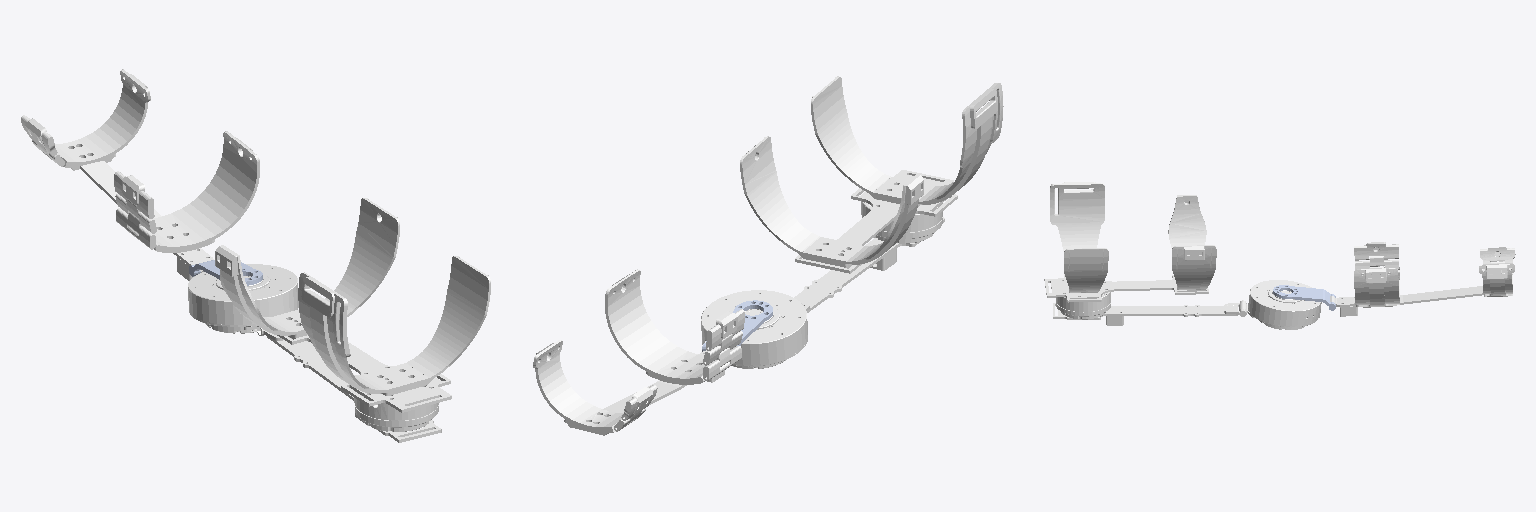
robot.urdf — knee_exo_hinge:
<?xml version='1.0' encoding='utf-8'?>
<robot name="knee_exo_hinge">
  <!-- Generated from knee_exo_hinge_r.urdf by tools/mirror_knee_urdf.py: CAD local X reflection. Meshes, COM, inertia, transforms and joint axes mirrored; masses/limits preserved. -->
  <link name="base_link">
    <inertial>
      <origin xyz="-0.0090654 -0.23188 0.015986" rpy="0 0 0" />
      <mass value="0.28656" />
      <inertia ixx="0.0004204" ixy="-6.2955e-06" ixz="1.0696e-05" iyy="0.00040802" iyz="2.0927e-06" izz="0.00057961" />
    </inertial>
    <visual>
      <origin xyz="0 0 0" rpy="0 0 0" />
      <geometry>
        <mesh filename="package://knee_exo_hinge/meshes/base_link_L.STL" />
      </geometry>
      <material name="">
        <color rgba="1 1 1 1" />
      </material>
    </visual>
    <collision>
      <origin xyz="0 0 0" rpy="0 0 0" />
      <geometry>
        <mesh filename="package://knee_exo_hinge/meshes/base_link_L.STL" />
      </geometry>
    </collision>
  </link>
  <link name="motor_housing_link">
    <inertial>
      <origin xyz="-0.015785 -0.053453 -0.0042739" rpy="0 0 0" />
      <mass value="0.06744" />
      <inertia ixx="3.5451e-05" ixy="3.7084e-07" ixz="-4.5148e-07" iyy="3.8313e-05" iyz="-8.0124e-06" izz="6.6839e-05" />
    </inertial>
    <visual>
      <origin xyz="0 0 0" rpy="0 0 0" />
      <geometry>
        <mesh filename="package://knee_exo_hinge/meshes/motor_housing_link_L.STL" />
      </geometry>
      <material name="">
        <color rgba="1 1 1 1" />
      </material>
    </visual>
    <collision>
      <origin xyz="0 0 0" rpy="0 0 0" />
      <geometry>
        <mesh filename="package://knee_exo_hinge/meshes/motor_housing_link_L.STL" />
      </geometry>
    </collision>
  </link>
  <joint name="upper_hinge_joint" type="revolute">
    <origin xyz="-0.01255 -0.058247 -0.022356" rpy="-0.14944 0.0092835 -3.08" />
    <parent link="base_link" />
    <child link="motor_housing_link" />
    <axis xyz="-0.99806 0.062234 0" />
    <limit lower="-0.34907" upper="0.34907" effort="0" velocity="0" />
  </joint>
  <link name="motor_output_link">
    <inertial>
      <origin xyz="-4.3419e-05 0.030401 -0.0020255" rpy="0 0 0" />
      <mass value="0.02644" />
      <inertia ixx="1.9601e-06" ixy="1.8976e-08" ixz="-1.2601e-08" iyy="3.0726e-06" iyz="4.1719e-07" izz="4.554e-06" />
    </inertial>
    <visual>
      <origin xyz="0 0 0" rpy="0 0 0" />
      <geometry>
        <mesh filename="package://knee_exo_hinge/meshes/motor_output_link_L.STL" />
      </geometry>
      <material name="">
        <color rgba="0.86667 0.9098 1 1" />
      </material>
    </visual>
    <collision>
      <origin xyz="0 0 0" rpy="0 0 0" />
      <geometry>
        <mesh filename="package://knee_exo_hinge/meshes/motor_output_link_L.STL" />
      </geometry>
    </collision>
  </link>
  <joint name="knee_joint" type="revolute">
    <origin xyz="-0.016318 -0.060031 0.013417" rpy="-0.14973 0 3.0793" />
    <parent link="motor_housing_link" />
    <child link="motor_output_link" />
    <axis xyz="0 -0.10771 -0.99418" />
    <limit lower="0" upper="1.9199" effort="20" velocity="20" />
  </joint>
  <link name="shank_link">
    <inertial>
      <origin xyz="-0.028731 -0.11554 0.005662" rpy="0 0 0" />
      <mass value="0.17064" />
      <inertia ixx="0.00032495" ixy="-1.7018e-05" ixz="4.2914e-05" iyy="0.00013146" iyz="-1.7562e-05" izz="0.00038154" />
    </inertial>
    <visual>
      <origin xyz="0 0 0" rpy="0 0 0" />
      <geometry>
        <mesh filename="package://knee_exo_hinge/meshes/shank_link_L.STL" />
      </geometry>
      <material name="">
        <color rgba="1 1 1 1" />
      </material>
    </visual>
    <collision>
      <origin xyz="0 0 0" rpy="0 0 0" />
      <geometry>
        <mesh filename="package://knee_exo_hinge/meshes/shank_link_L.STL" />
      </geometry>
    </collision>
  </link>
  <joint name="lower_hinge_joint" type="revolute">
    <origin xyz="-0.0165 0.06218 -0.012772" rpy="-0.14944 0.0092835 -3.08" />
    <parent link="motor_output_link" />
    <child link="shank_link" />
    <axis xyz="-0.99806 0.062234 0" />
    <limit lower="-0.34907" upper="0.34907" effort="0" velocity="0" />
  </joint>
</robot>

--- Render facts (derived) ---
3 views of the same robot in one strip: view 1: azimuth 30°, elevation 25°; view 2: azimuth 150°, elevation 25°; view 3: azimuth 270°, elevation 25° (orthographic).
Model knee_exo_hinge with 4 links and 3 joints (3 revolute), rooted at base_link, posed every joint at zero.
Links seen in each view (by area): view 1: base_link, shank_link, motor_housing_link, motor_output_link; view 2: base_link, shank_link, motor_housing_link, motor_output_link; view 3: base_link, shank_link, motor_housing_link, motor_output_link.
Link boxes in pixels (box(x1,y1,x2,y2)): base_link: box(215, 198, 490, 442); shank_link: box(21, 69, 259, 280); motor_housing_link: box(188, 264, 298, 333); motor_output_link: box(189, 260, 262, 285); base_link: box(740, 76, 1003, 312); shank_link: box(533, 269, 744, 435); motor_housing_link: box(701, 290, 807, 368); motor_output_link: box(702, 300, 772, 351); base_link: box(1044, 182, 1246, 325); shank_link: box(1330, 242, 1515, 316); motor_housing_link: box(1239, 280, 1321, 329); motor_output_link: box(1273, 285, 1335, 310).
Bounding box of the posed robot: 0.18 × 0.6356 × 0.1689 m (x, y, z).
4 mesh visuals loaded from 4 distinct referenced files (4 binary STL).
